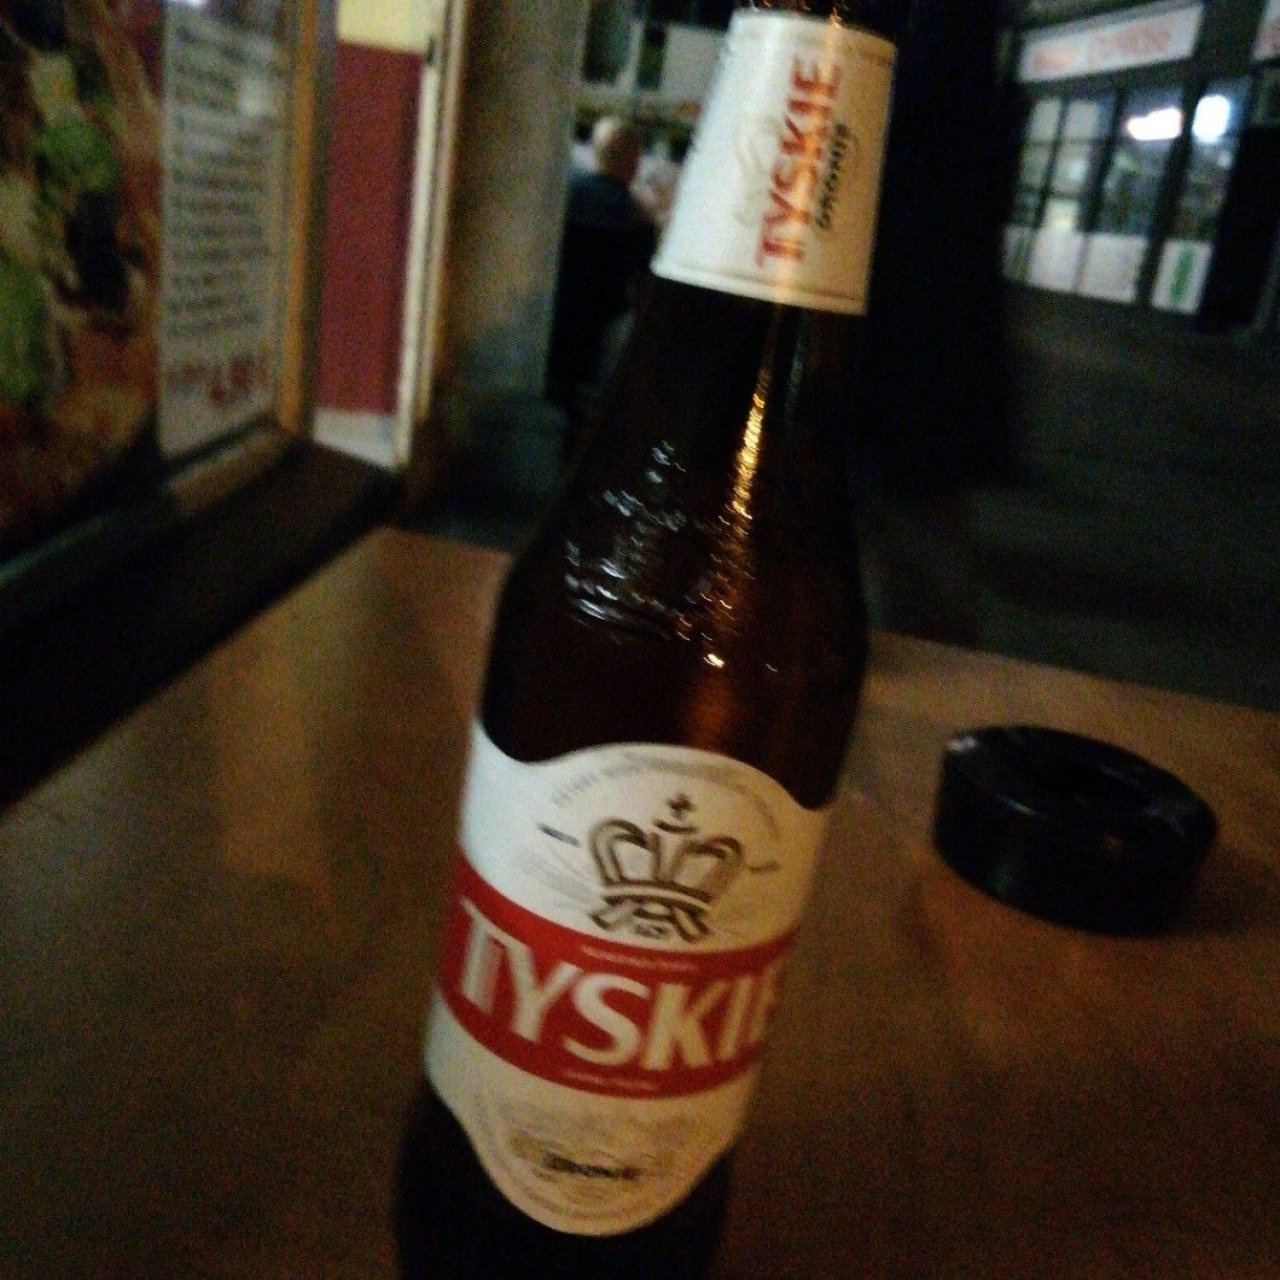beerBottle: (392, 25, 931, 1280)
